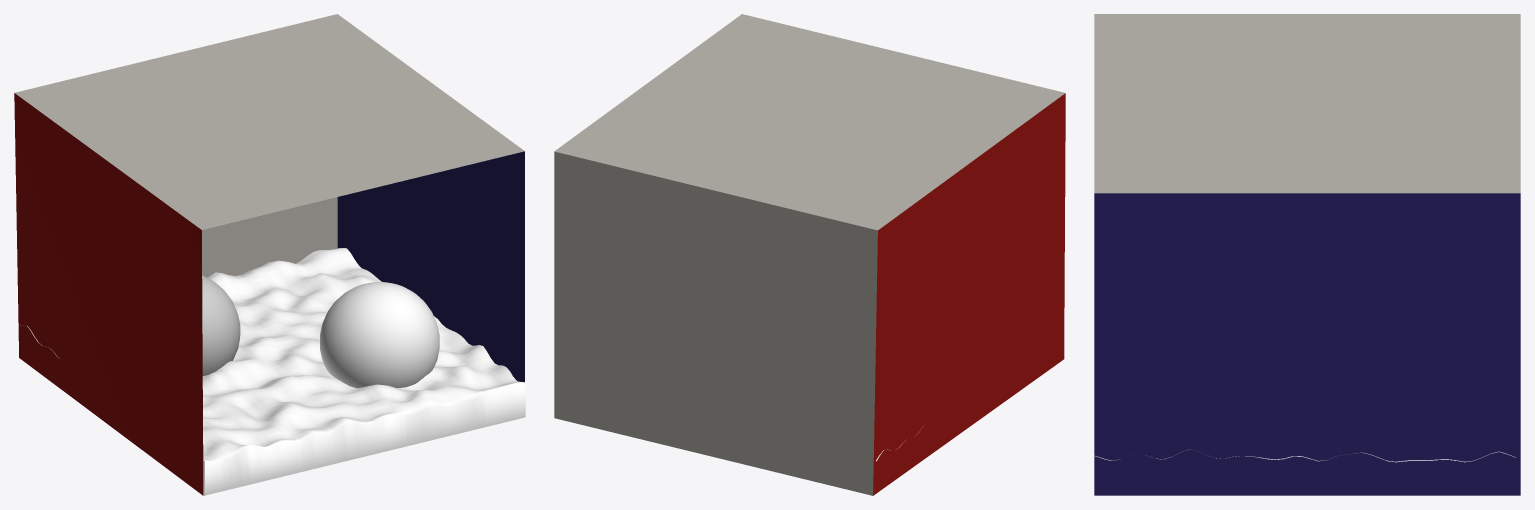
File: CornellBox-Water-mirror.obj
The picture shows the model from 3 angles, left to right: view 1: azimuth 30°, elevation 25°; view 2: azimuth 150°, elevation 25°; view 3: azimuth 270°, elevation 25°; orthographic projection. The views are drawn at different scales.
Parts seen in each view (by area): view 1: ceiling, leftWall, water, rightWall, rightSphere, backWall, leftSphere; view 2: backWall, ceiling, leftWall; view 3: rightWall, ceiling.
Boxes of the visible parts, left/top/right/bottom form: ceiling: left=14, top=14, right=524, bottom=229; leftWall: left=14, top=93, right=203, bottom=495; water: left=20, top=248, right=525, bottom=495; rightWall: left=337, top=151, right=524, bottom=382; rightSphere: left=320, top=282, right=439, bottom=388; backWall: left=202, top=197, right=337, bottom=277; leftSphere: left=202, top=275, right=240, bottom=376; backWall: left=554, top=151, right=877, bottom=495; ceiling: left=554, top=14, right=1065, bottom=230; leftWall: left=873, top=93, right=1065, bottom=495; rightWall: left=1094, top=193, right=1520, bottom=495; ceiling: left=1094, top=14, right=1520, bottom=193.
Bounding box in the file's own units: 2.02 × 1.59 × 2.03.
